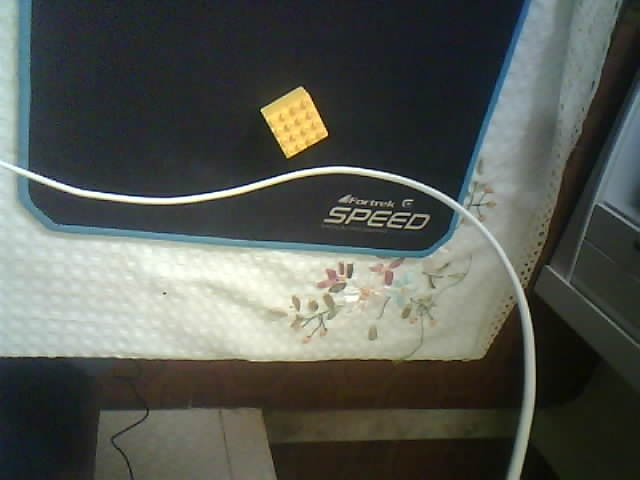lego: (259, 85, 328, 159)
